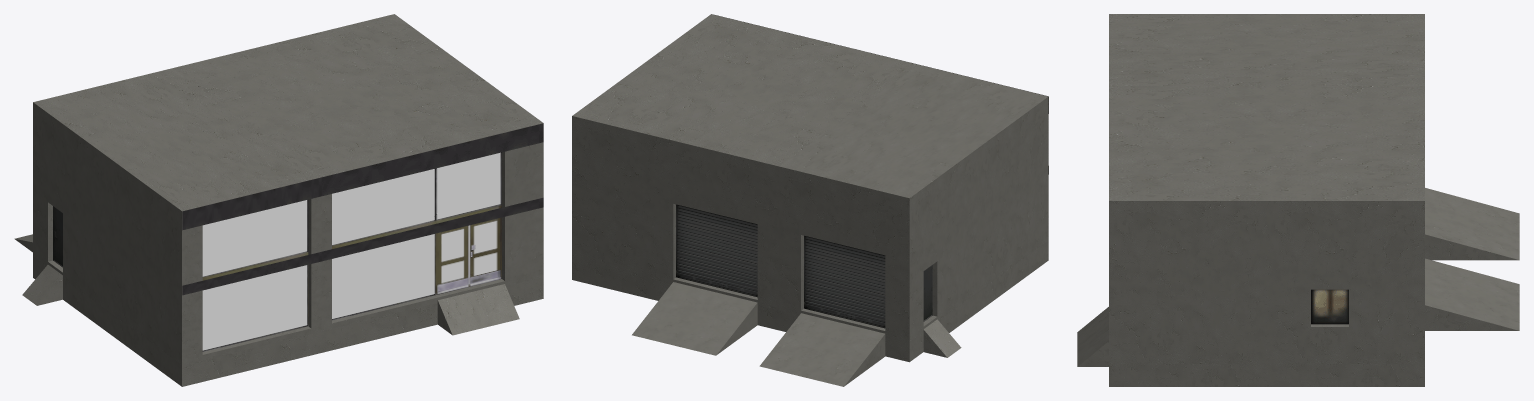
The model's file is mid_house_4_2.fbx.
3 views of the same model, side by side, from view 1: azimuth 30°, elevation 25°; view 2: azimuth 150°, elevation 25°; view 3: azimuth 270°, elevation 25° (orthographic). The views are drawn at different scales.
Parts seen in each view (by area): view 1: mid_house_4_2; view 2: mid_house_4_2; view 3: mid_house_4_2.
Boxes of the visible parts, x1,y1,x2,y2 form: mid_house_4_2: (14,14,543,386); mid_house_4_2: (572,14,1048,386); mid_house_4_2: (1077,14,1519,386).
Bounding box in the file's own units: 1500 × 650 × 1400.
